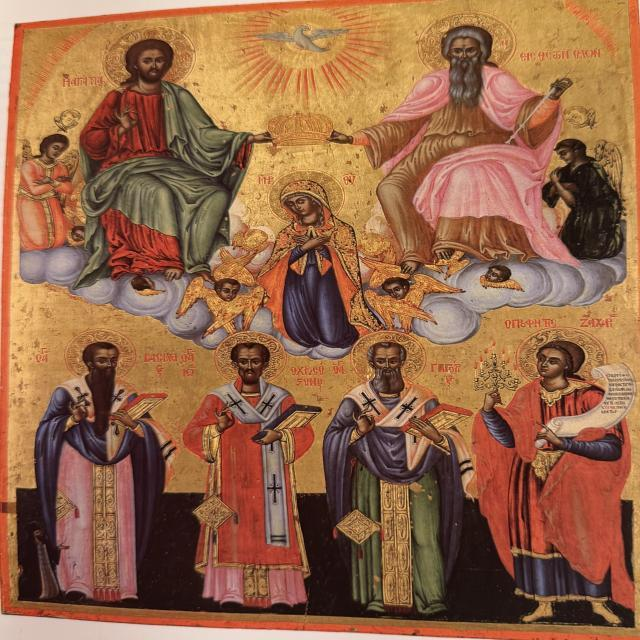aura: (420, 12, 519, 74), (108, 26, 198, 90), (514, 328, 609, 384), (271, 166, 350, 226), (352, 332, 429, 390), (61, 329, 139, 384), (212, 330, 290, 382)
book: (250, 402, 324, 448), (402, 403, 476, 442), (112, 390, 176, 432)
christ: (71, 31, 251, 291)
christ_hand: (111, 103, 145, 139)
church_father: (19, 322, 179, 611), (325, 327, 468, 614), (187, 324, 319, 612)
crown: (265, 113, 336, 151)
dove: (248, 19, 358, 65)
mary: (254, 163, 388, 335)
saint: (476, 323, 636, 618), (367, 14, 557, 260)
scroll: (534, 362, 639, 449)
wing: (591, 140, 635, 194), (58, 150, 84, 180), (19, 136, 37, 159)
